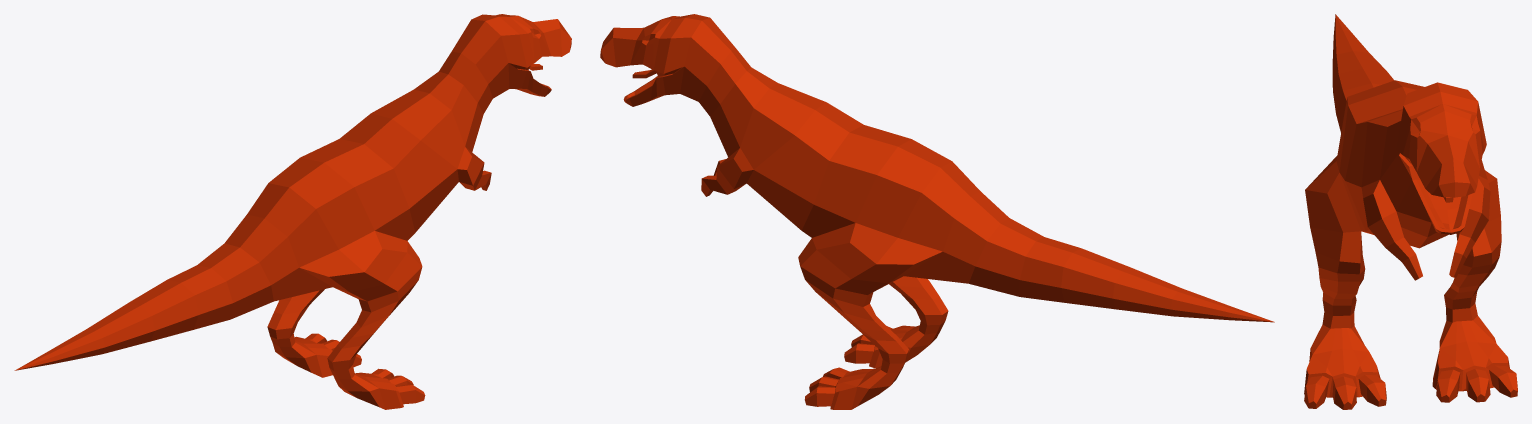
File: dinosaur.glb
The picture shows the model from 3 angles, left to right: view 1: azimuth 30°, elevation 25°; view 2: azimuth 150°, elevation 25°; view 3: azimuth 270°, elevation 25°; orthographic projection. The views are drawn at different scales.
Parts seen in each view (by area): view 1: Plane.001; view 2: Plane.001; view 3: Plane.001.
Boxes of the visible parts, bbox=[...] form: Plane.001: bbox=[14, 14, 571, 409]; Plane.001: bbox=[600, 14, 1274, 409]; Plane.001: bbox=[1304, 14, 1517, 409].
Size of the model in its own units: 5.92 by 2.97 by 1.45.
